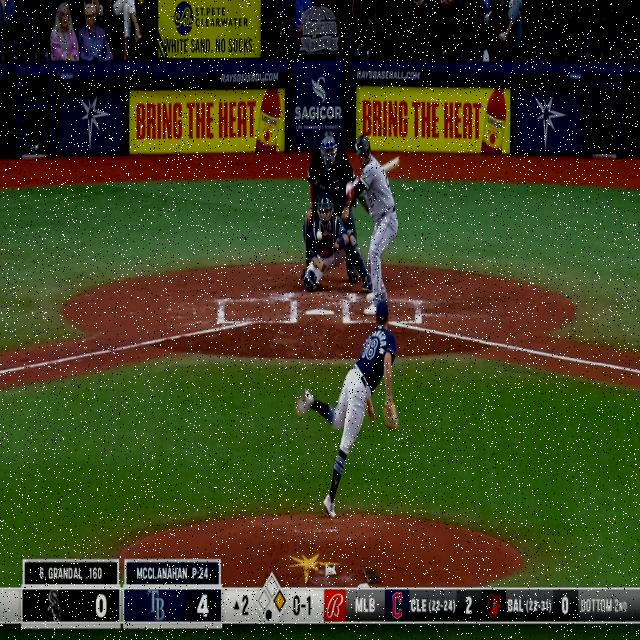baseball: (316, 230, 322, 242)
